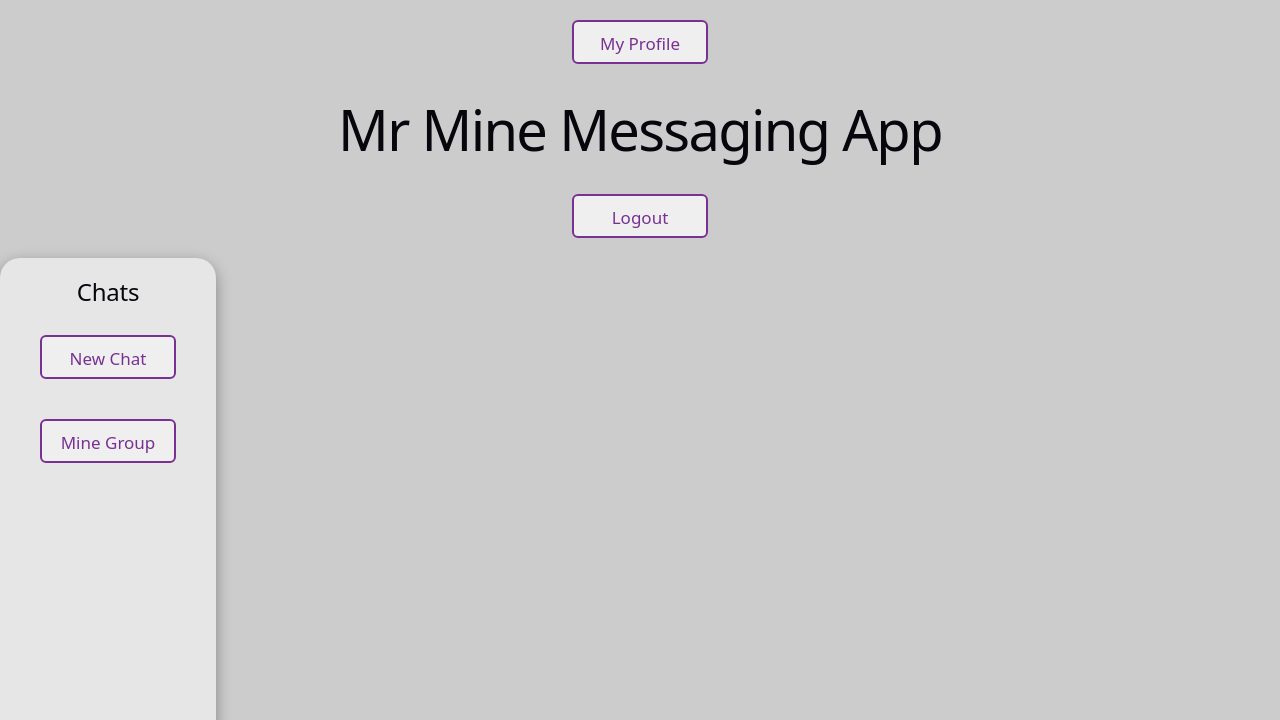
Test: Home component › opens group info when clicked in messages
Click the button "Mine Group": (108,441) [40,419,176,463]
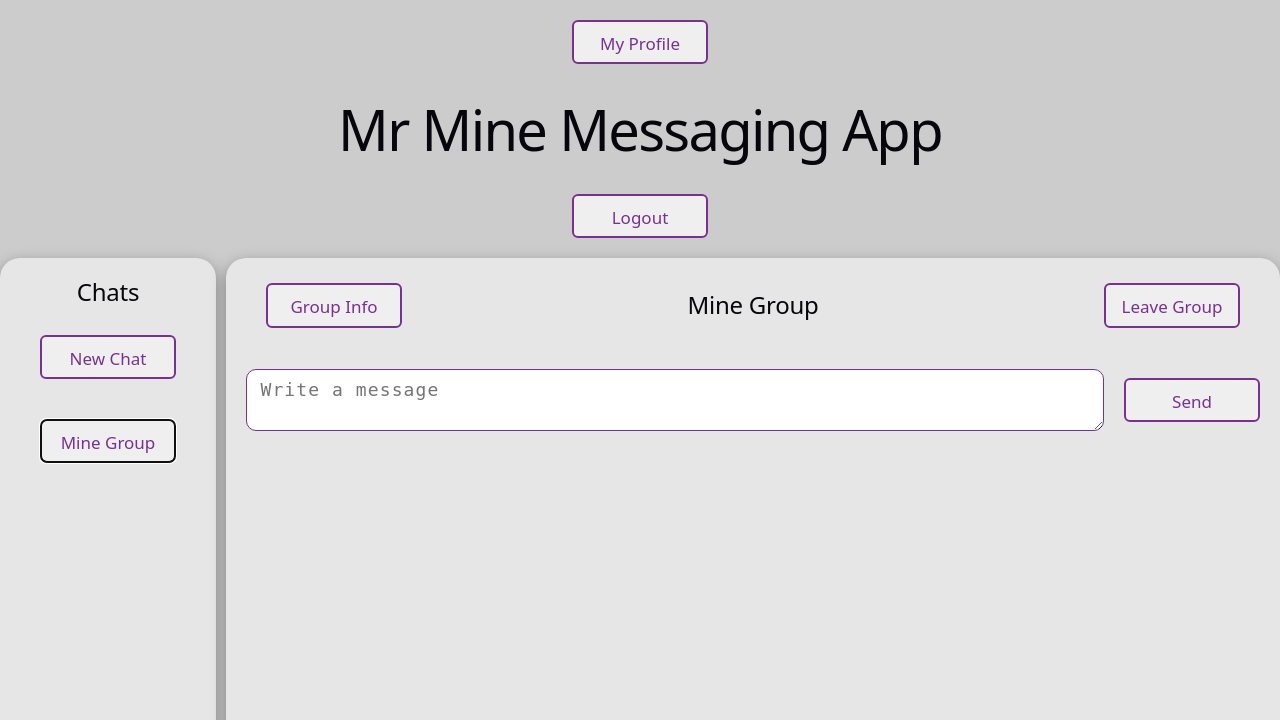
Click the button "Group Info": (334,306) [266,284,402,328]
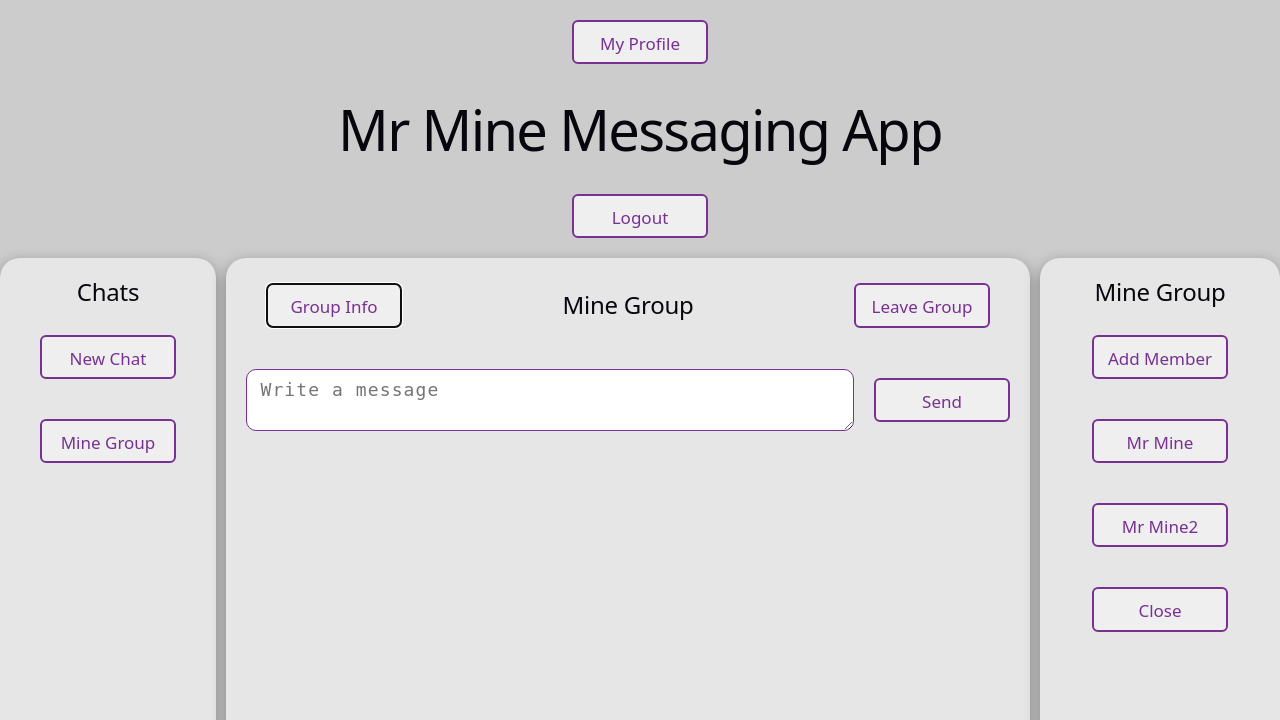
Now the button "Add Member" is shown, box [1092,335,1228,379]
